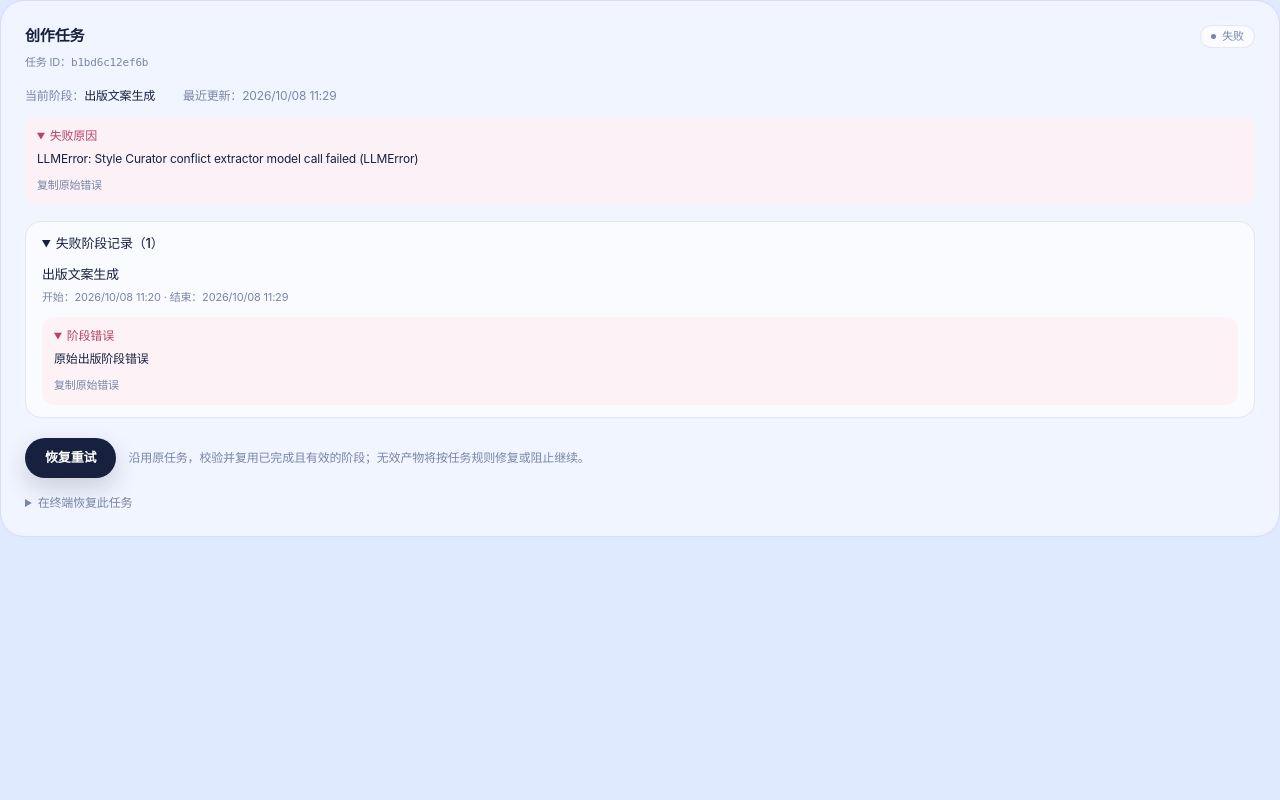
Test: shows submit errors and permits retry without losing the saved failure
The image size is (1280, 800).
Click the button "恢复重试": click(71, 458) [25,438,116,478]
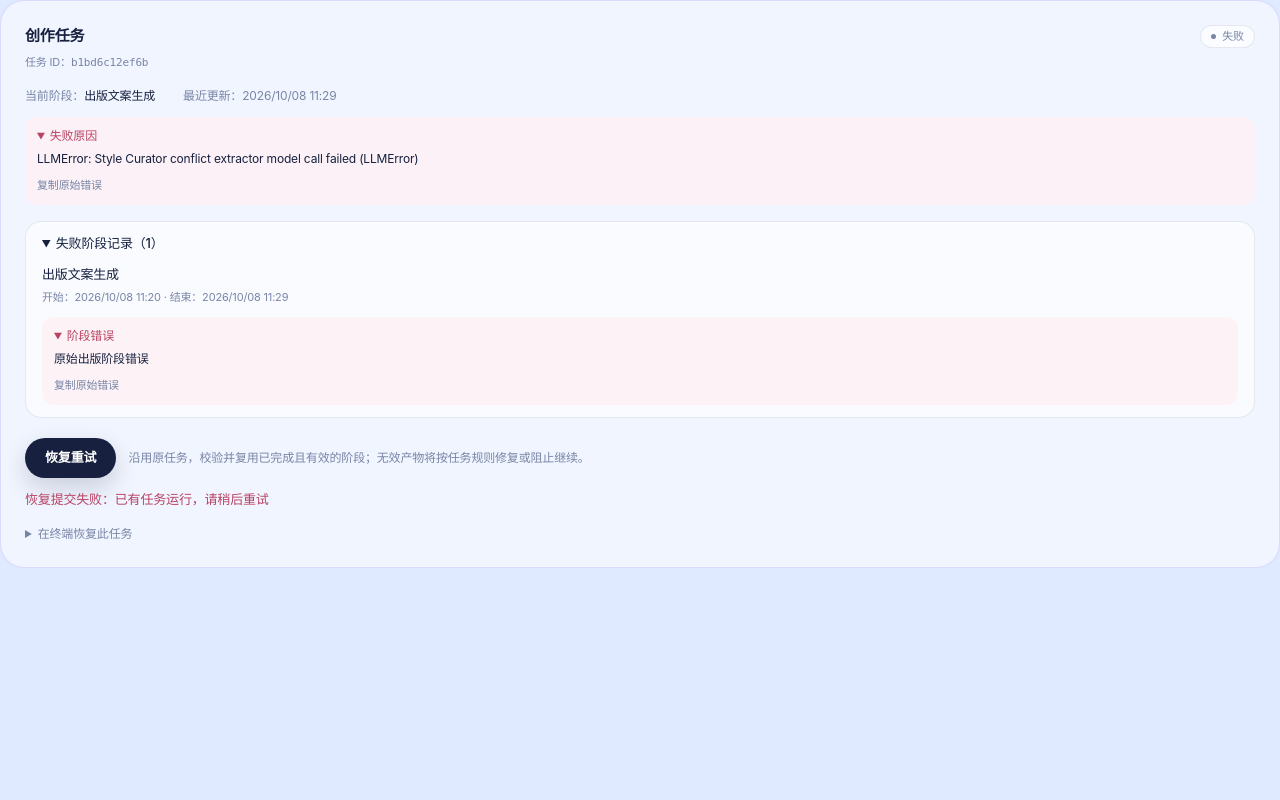
Expected: the text "LLMError: Style Curator conflict extractor model call failed (LLMError)" is shown, [37,151,418,166]
Expected: the message shows "已有任务运行", [115,491,269,507]
